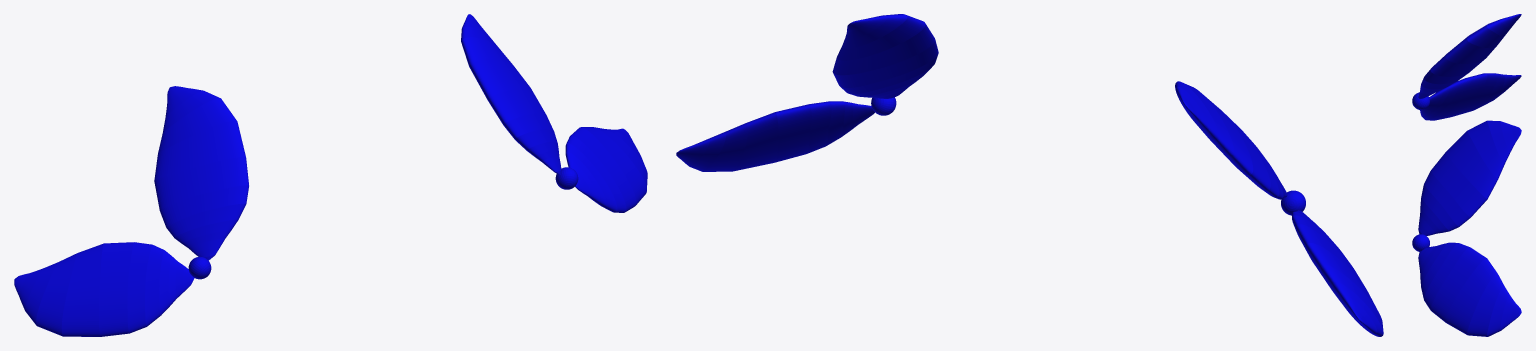
Rendered from ribbon_blue.glb.
3 views of the same model, side by side, from view 1: azimuth 30°, elevation 25°; view 2: azimuth 150°, elevation 25°; view 3: azimuth 270°, elevation 25° (orthographic). The views are drawn at different scales.
Parts seen in each view (by area): view 1: GARIO; view 2: GARIO; view 3: GARIO.
Part boxes in pixels (x1,y1,x2,y2): GARIO: (14, 14, 647, 336); GARIO: (676, 14, 1383, 336); GARIO: (1412, 14, 1521, 336).
Size of the model in its own units: 2.95 by 0.8787 by 0.5725.
